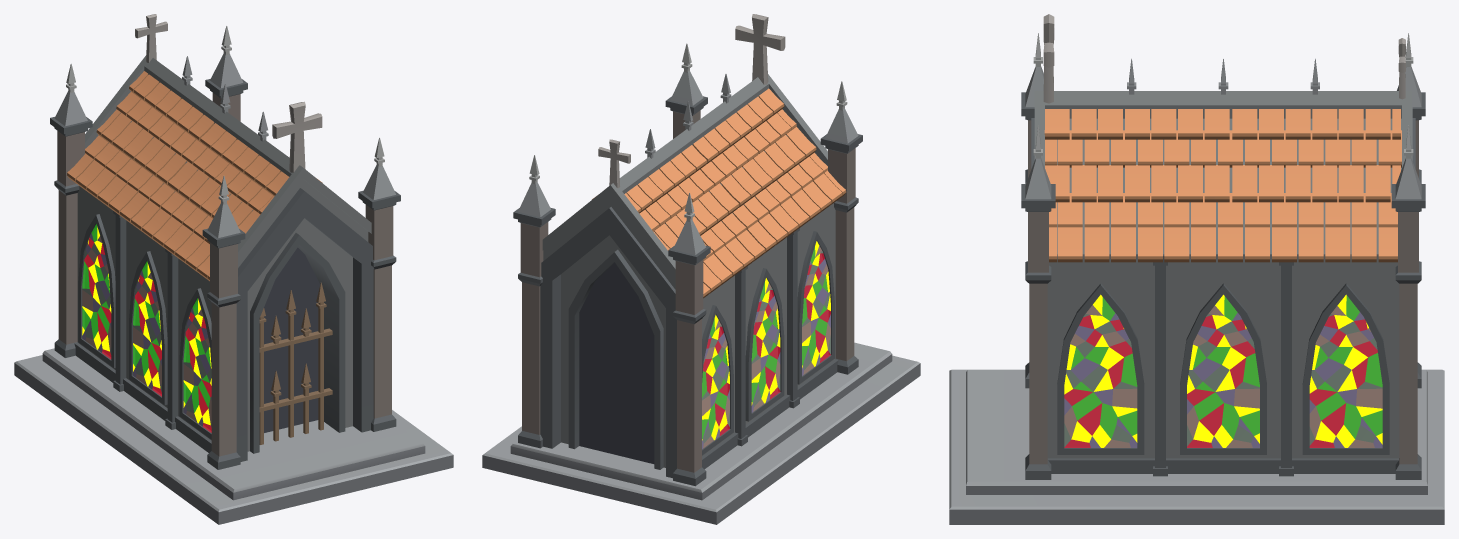
Rendered from House.fbx.
The picture shows the model from 3 angles, left to right: view 1: azimuth 30°, elevation 25°; view 2: azimuth 150°, elevation 25°; view 3: azimuth 270°, elevation 25°; orthographic projection. The views are drawn at different scales.
Parts seen in each view (by area): view 1: SM_Halloween_Church_02_Halloween_Pack_M_0; view 2: SM_Halloween_Church_02_Halloween_Pack_M_0; view 3: SM_Halloween_Church_02_Halloween_Pack_M_0.
Boxes of the visible parts, box(x1,y1,x2,y2) form: SM_Halloween_Church_02_Halloween_Pack_M_0: box(14, 14, 453, 524); SM_Halloween_Church_02_Halloween_Pack_M_0: box(482, 14, 920, 524); SM_Halloween_Church_02_Halloween_Pack_M_0: box(949, 14, 1444, 524).
Size of the model in its own units: 455 by 670 by 686.
